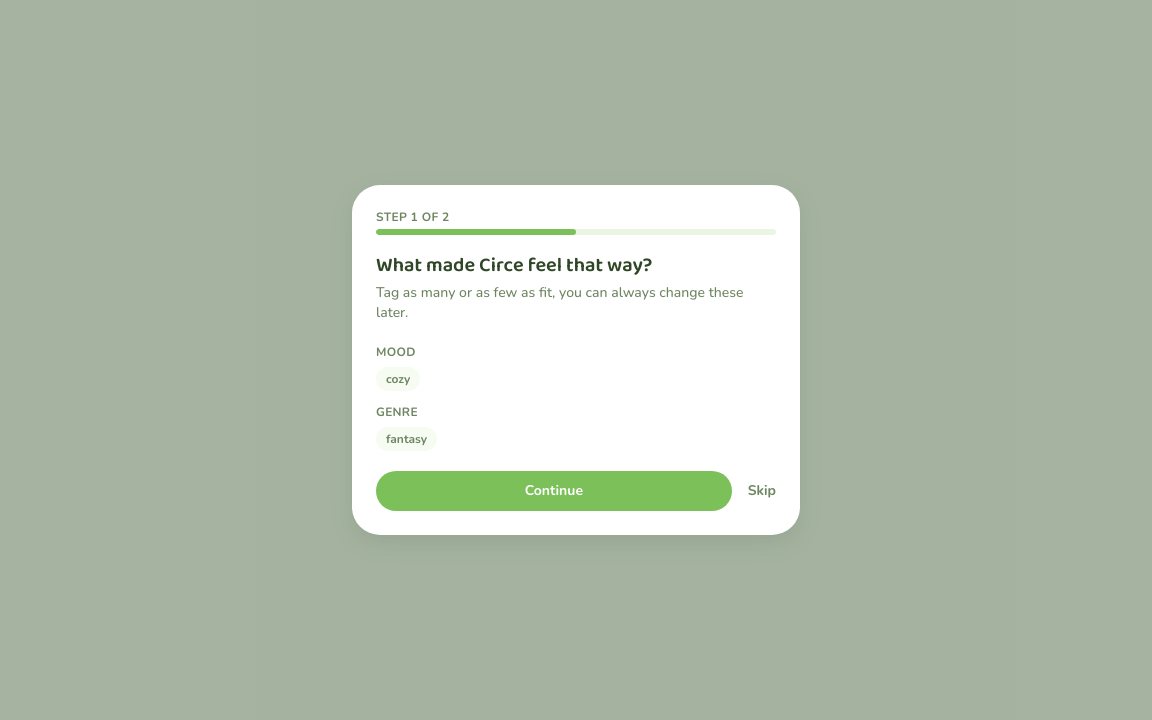
FirstRatingExperience › shows an error message when given one
Step 1. Click the button "Continue" → (554, 491), box [376,471,732,511]
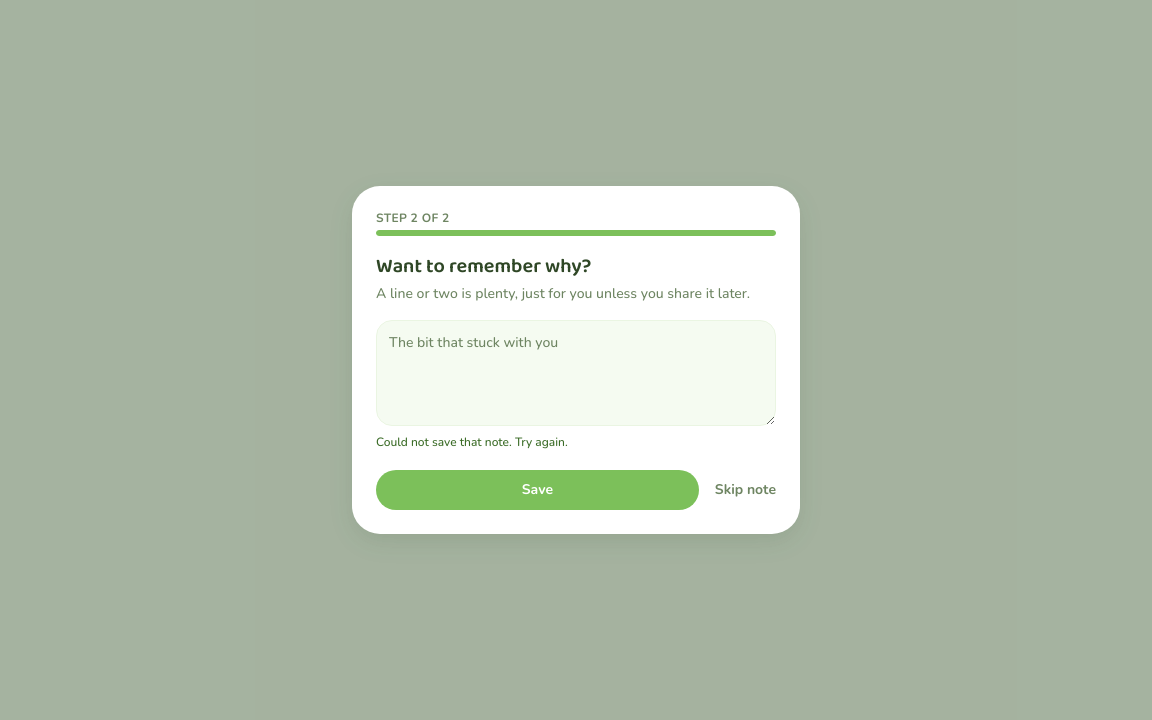
Now the text "Could not save that note. Try again." is shown, box [376,434,568,450]
